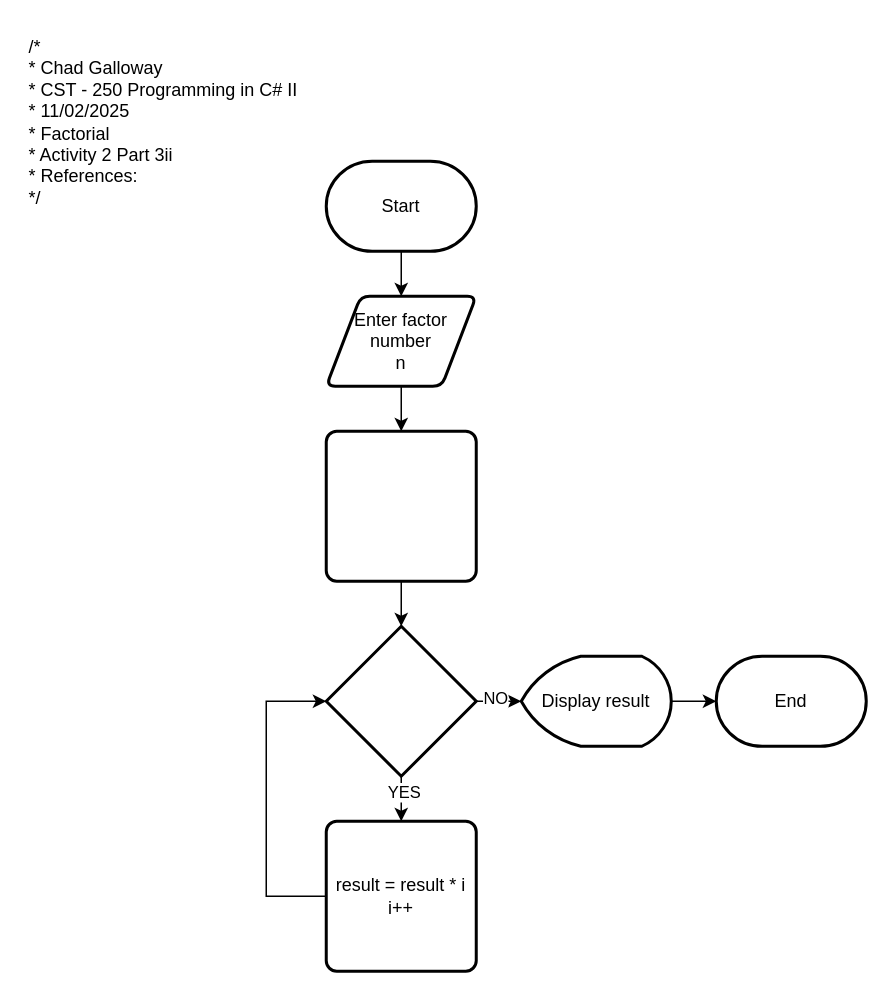
The diagram is 893 pixels wide and 998 high, and some of its shapes have lost their labels. The box of each missing label's shape, as (x1, y1, x2, y2) in pixels:
is i >= n: (324, 624, 477, 777)
result = 1 i = 1: (324, 429, 477, 582)
